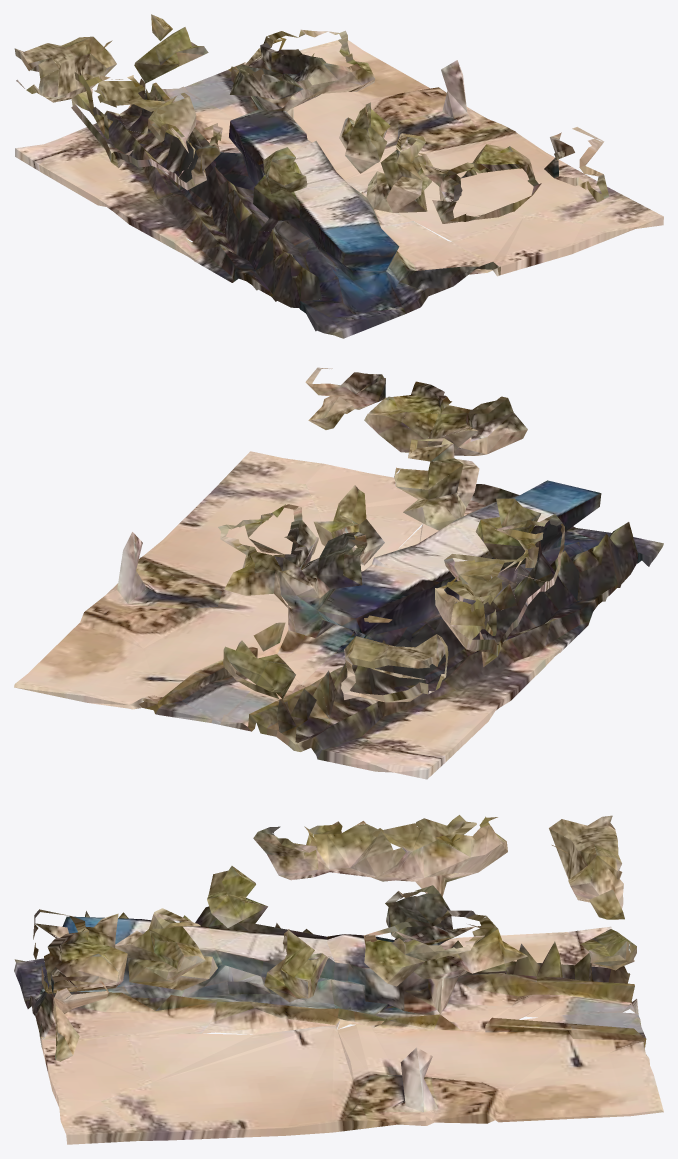
3 views of the same model, one above another, from view 1: azimuth 30°, elevation 25°; view 2: azimuth 150°, elevation 25°; view 3: azimuth 270°, elevation 25° (orthographic). The views are drawn at different scales.
Parts seen in each view (by area): view 1: Mesh_0; view 2: Mesh_0; view 3: Mesh_0.
Boxes of the visible parts, x1,y1,x2,y2 form: Mesh_0: (14,14,663,338); Mesh_0: (14,367,663,779); Mesh_0: (14,815,663,1144).
Size of the model in its own units: 33.45 by 9.72 by 41.44.
2 materials, 2 textured.
